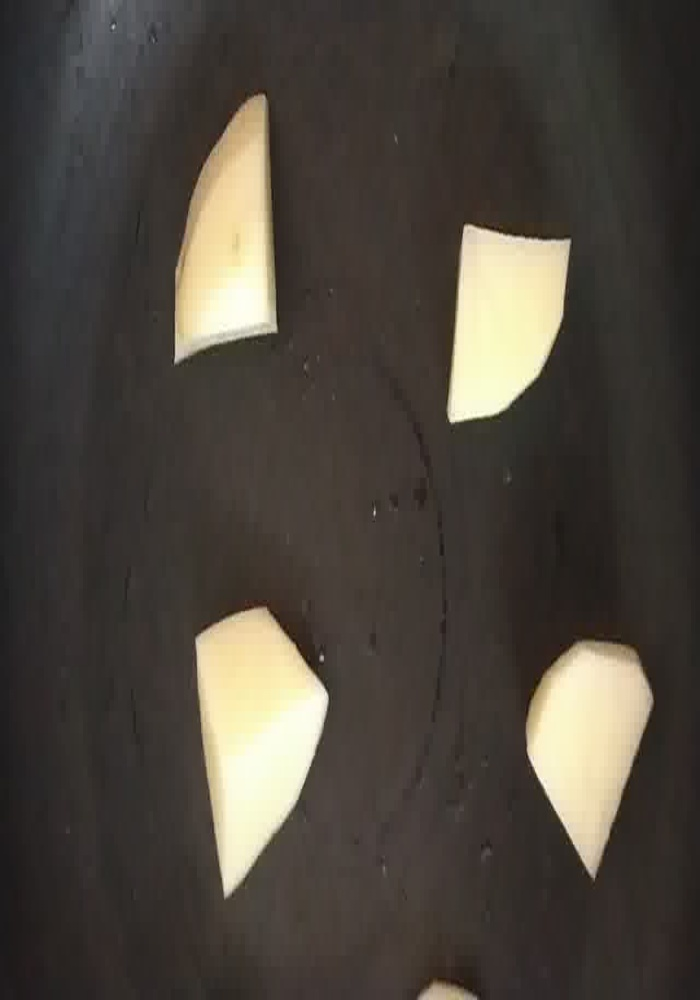potato: (189, 604, 330, 901), (519, 636, 654, 879), (177, 96, 283, 364), (455, 214, 569, 437)
